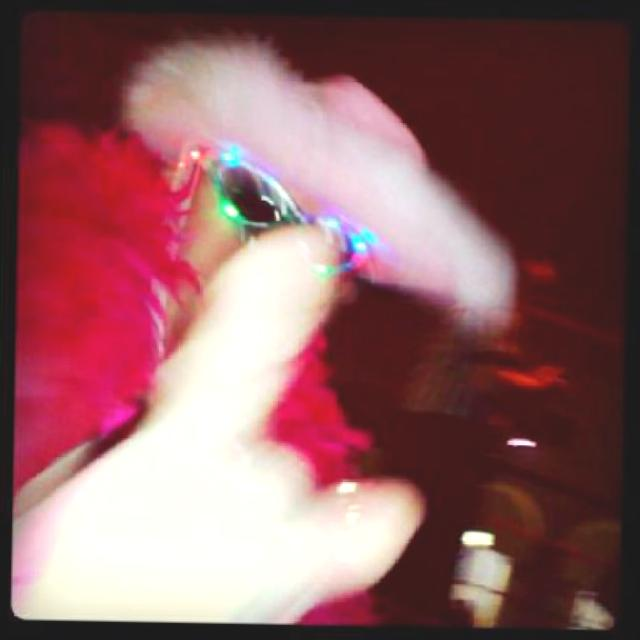Person: (396, 259, 570, 562)
